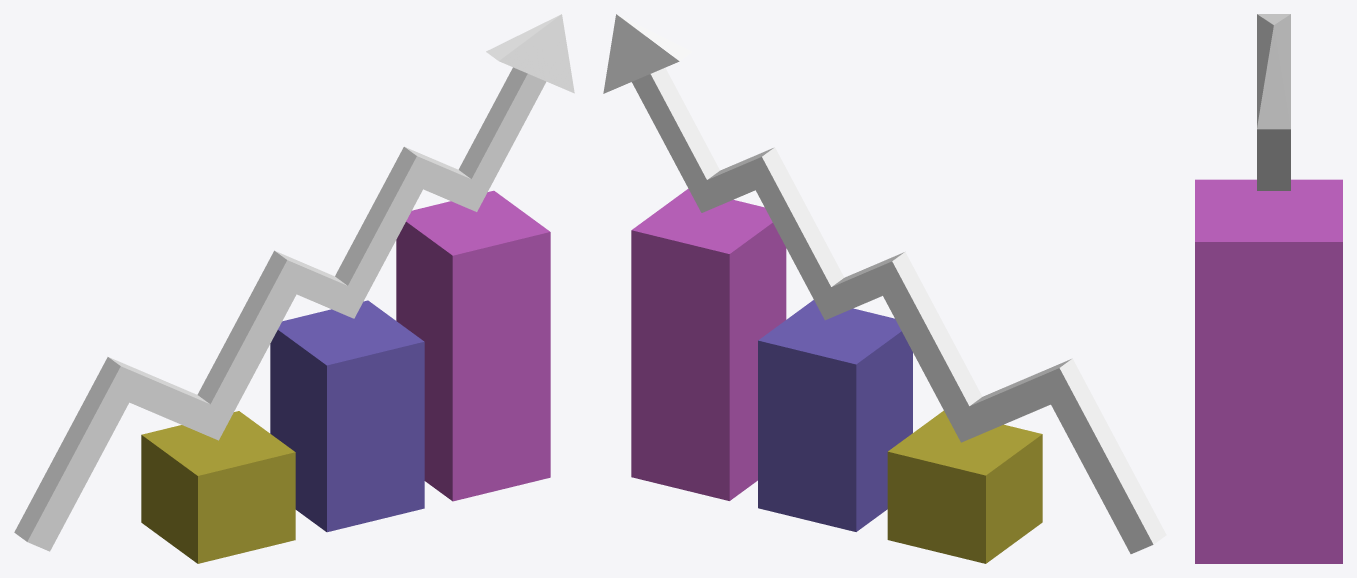
File: 7KxckLro.glb
3 renders of one model, left to right at view 1: azimuth 30°, elevation 25°; view 2: azimuth 150°, elevation 25°; view 3: azimuth 270°, elevation 25°, orthographic. The views are drawn at different scales.
Visible parts, largest first — view 1: Cube.002_0, Cube.003_0, Cube.001_0, Cube_0; view 2: Cube.002_0, Cube.003_0, Cube.001_0, Cube_0; view 3: Cube.002_0, Cube.003_0.
Part boxes in pixels (x1=…): Cube.002_0: x1=396, y1=190, x2=550, y2=501; Cube.003_0: x1=14, y1=14, x2=574, y2=551; Cube.001_0: x1=270, y1=300, x2=424, y2=532; Cube_0: x1=141, y1=411, x2=295, y2=563; Cube.002_0: x1=631, y1=188, x2=786, y2=500; Cube.003_0: x1=603, y1=14, x2=1166, y2=553; Cube.001_0: x1=758, y1=300, x2=912, y2=531; Cube_0: x1=887, y1=410, x2=1042, y2=563; Cube.002_0: x1=1195, y1=179, x2=1342, y2=563; Cube.003_0: x1=1257, y1=14, x2=1290, y2=190.
Size of the model in its own units: 3.63 by 2.74 by 0.648.
